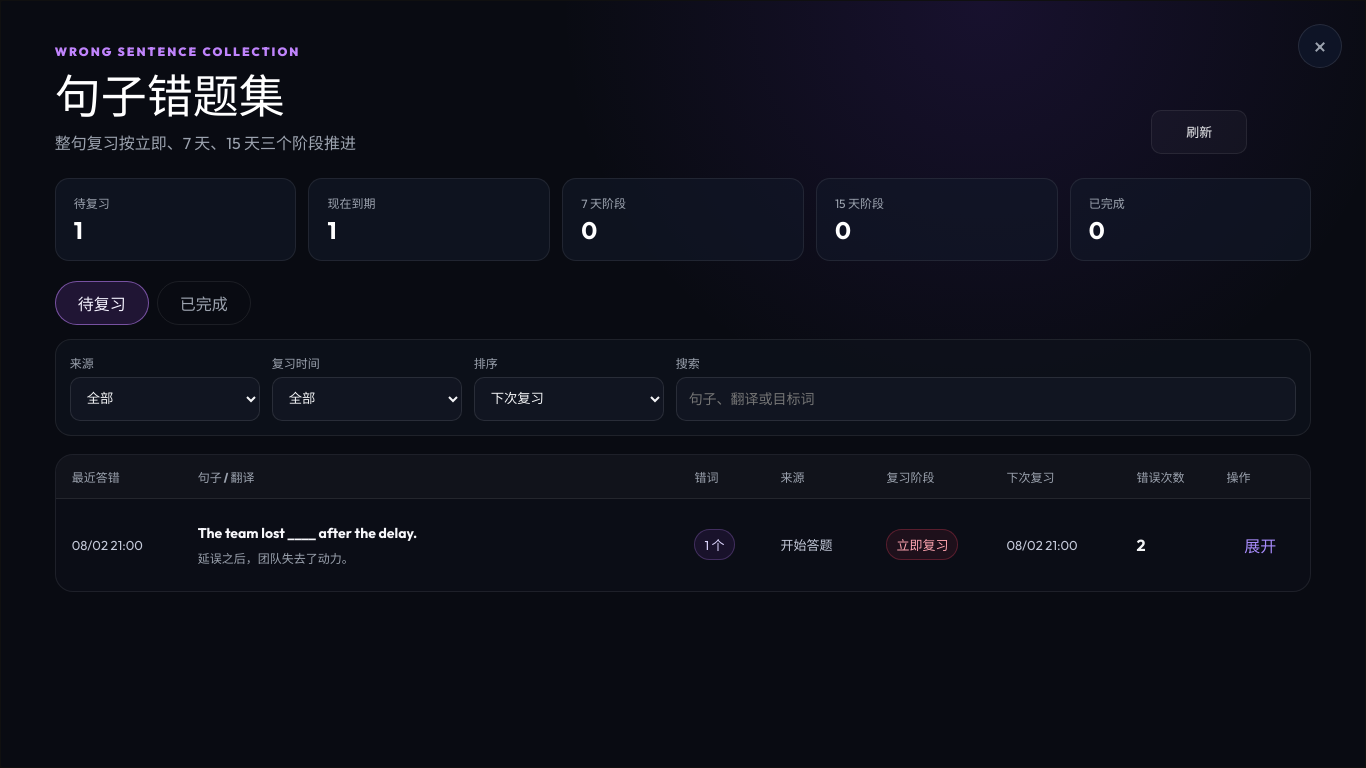
Scenario: wrong sentence collection › loads active items and expands a learning-focused detail
This screenshot has width=1366, height=768.
Expected: the heading "句子错题集" is shown, left=55, top=67, right=285, bottom=125
Expected: the text "立即复习" is shown, left=886, top=529, right=958, bottom=560
Click the button "展开": x=1260, y=545 left=1226, top=523, right=1294, bottom=567
(page scrolled)
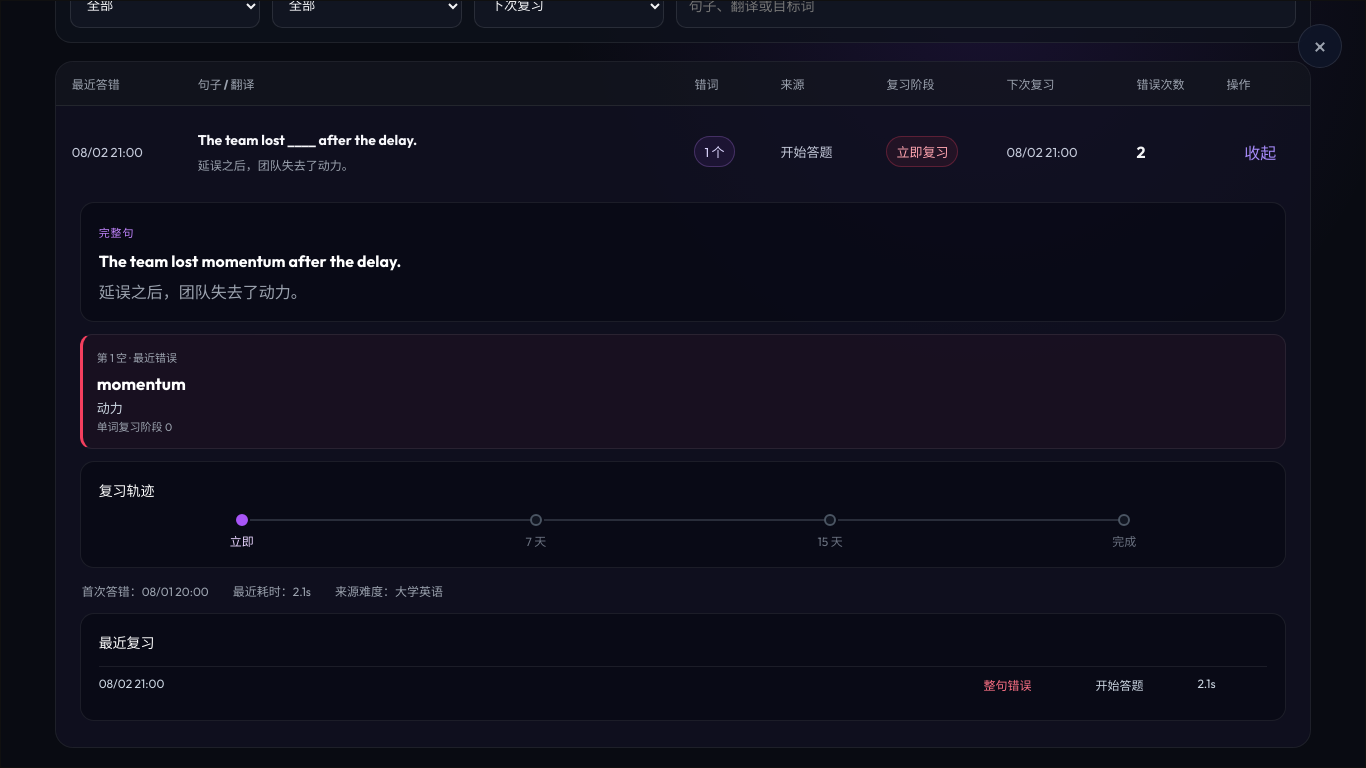
Now the heading "复习轨迹" is shown, box left=99, top=482, right=155, bottom=500
Now the text "momentum" is shown, box left=97, top=373, right=186, bottom=394
